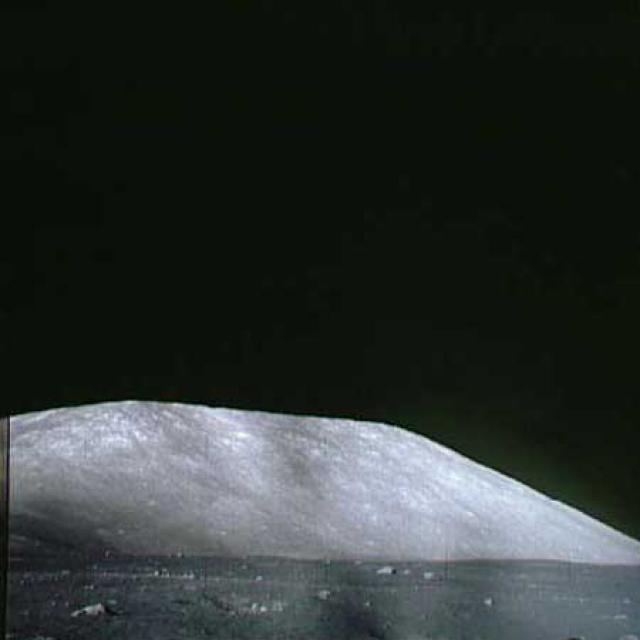crater: (188, 588, 289, 618)
rock: (68, 594, 114, 623), (374, 562, 398, 583), (418, 565, 439, 583)
